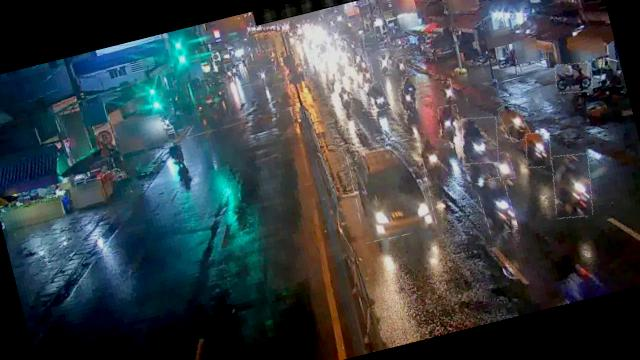Bike: (546, 150, 600, 222), (456, 112, 504, 168), (476, 175, 518, 236), (552, 58, 596, 97), (498, 100, 530, 144), (522, 131, 556, 170), (436, 103, 465, 145), (364, 80, 390, 112), (334, 83, 357, 116), (165, 139, 187, 173), (494, 152, 516, 182), (398, 86, 420, 115), (400, 74, 421, 102), (438, 79, 454, 103), (378, 54, 392, 76), (360, 63, 374, 84), (396, 58, 408, 76)
Car: (344, 136, 439, 244)
